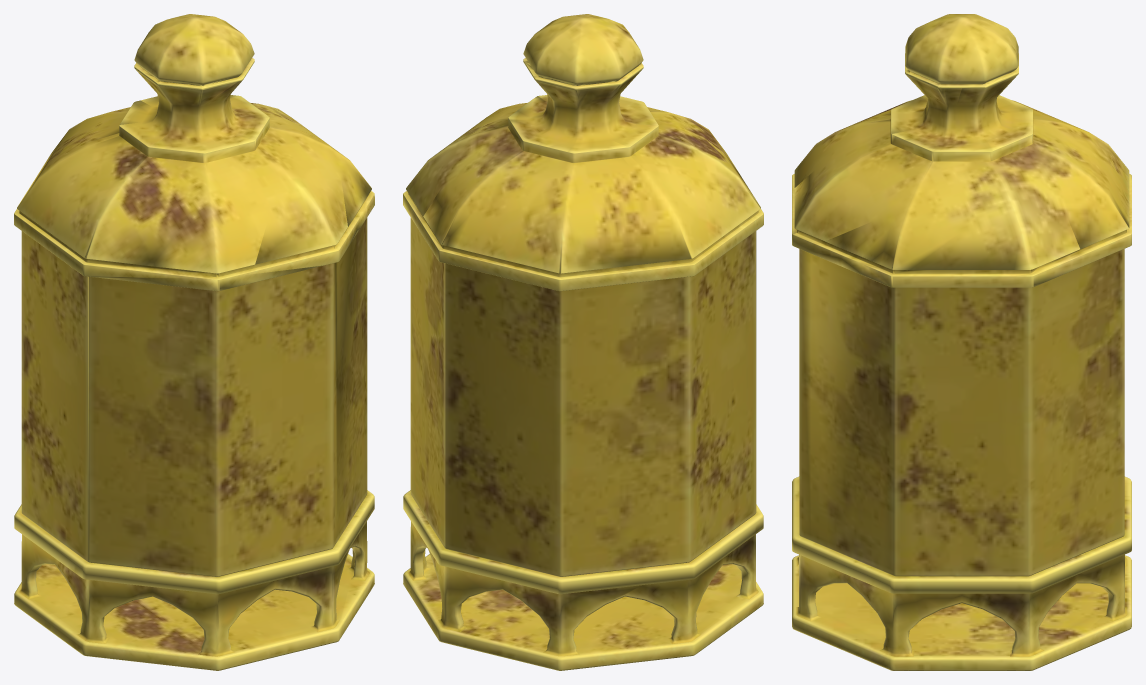
File: reliquary.glb
3 renders of one model, left to right at view 1: azimuth 30°, elevation 25°; view 2: azimuth 150°, elevation 25°; view 3: azimuth 270°, elevation 25°, orthographic.
Parts seen in each view (by area): view 1: 24RE0060_low; view 2: 24RE0060_low; view 3: 24RE0060_low.
Boxes of the visible parts, x1,y1,x2,y2 form: 24RE0060_low: [14, 14, 374, 670]; 24RE0060_low: [403, 14, 763, 670]; 24RE0060_low: [792, 14, 1131, 670].
Size of the model in its own units: 0.0418 by 0.0789 by 0.0418.
1 material, 1 textured.
